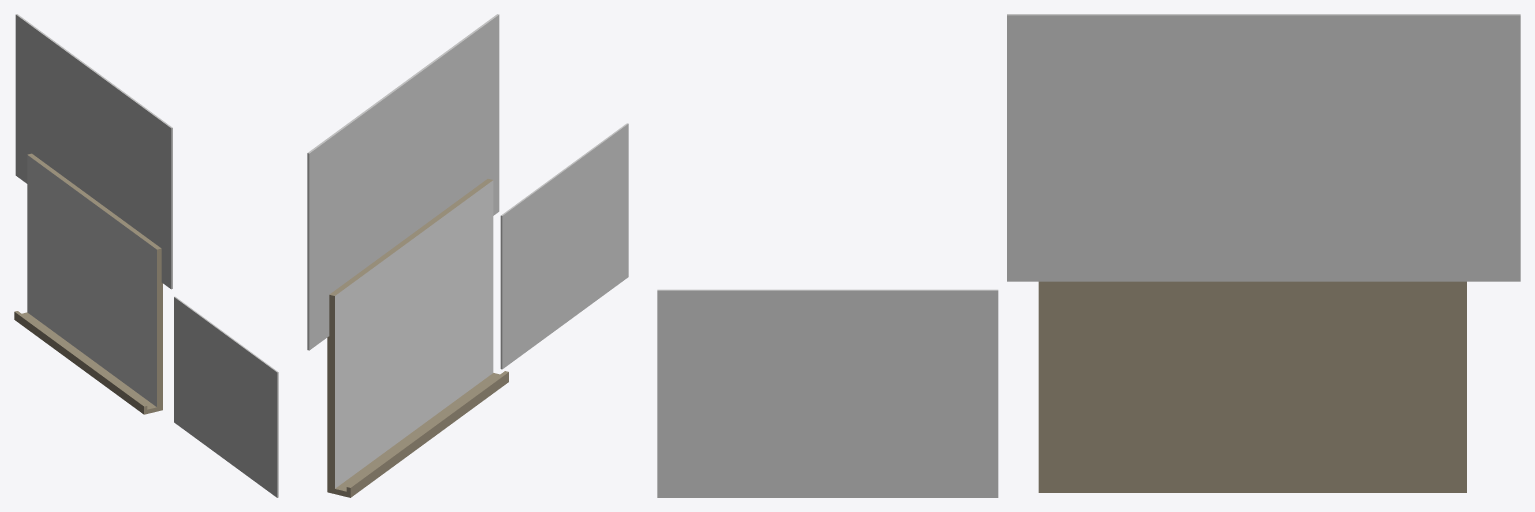
The model's file is tafeln.fbx.
The picture shows the model from 3 angles, left to right: view 1: azimuth 30°, elevation 25°; view 2: azimuth 150°, elevation 25°; view 3: azimuth 270°, elevation 25°; orthographic projection. The views are drawn at different scales.
Parts seen in each view (by area): view 1: Cube.059, Cube.061, Cube.060; view 2: Cube.059, Cube.061, Cube.060; view 3: Cube.061, Cube.059, Cube.060.
Part boxes in pixels (bbox=[...]): Cube.059: bbox=[14, 153, 162, 414]; Cube.061: bbox=[15, 14, 172, 289]; Cube.060: bbox=[174, 296, 278, 497]; Cube.059: bbox=[327, 179, 508, 497]; Cube.061: bbox=[307, 14, 499, 350]; Cube.060: bbox=[500, 123, 628, 369]; Cube.061: bbox=[1007, 14, 1520, 281]; Cube.059: bbox=[1038, 281, 1466, 492]; Cube.060: bbox=[657, 289, 998, 497].
Size of the model in its own units: 296 by 4316 by 6993.
